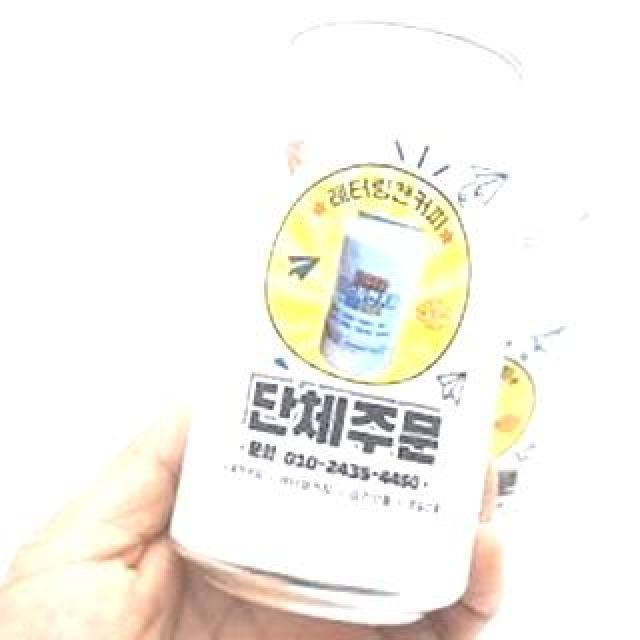Can: (162, 6, 536, 632)
